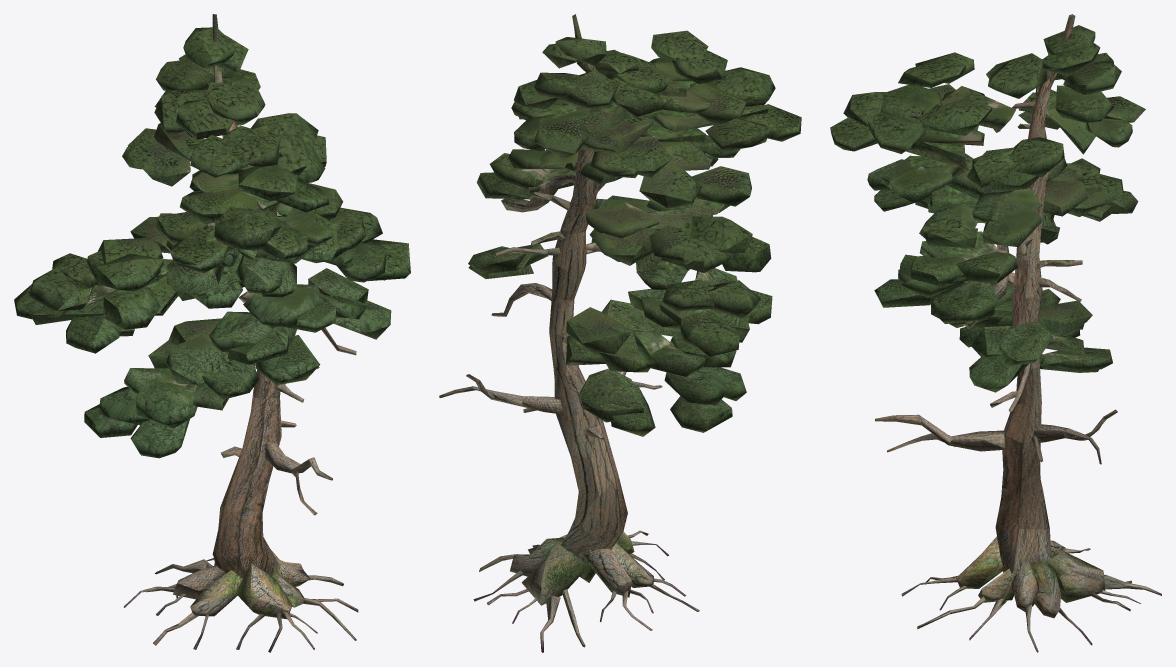
The model's file is source.glb.
3 renders of one model, left to right at view 1: azimuth 30°, elevation 25°; view 2: azimuth 150°, elevation 25°; view 3: azimuth 270°, elevation 25°, orthographic. The views are drawn at different scales.
Size of the model in its own units: 0.5762 by 1 by 0.5117.
Materials: 1 (1 with a texture image).
